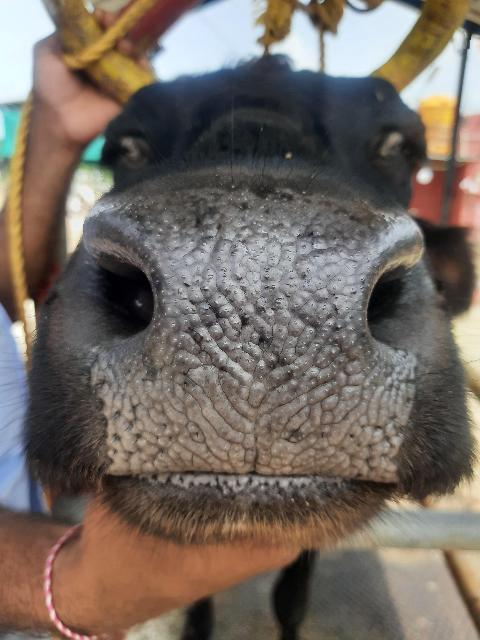Muzzle: (107, 208, 384, 478)
